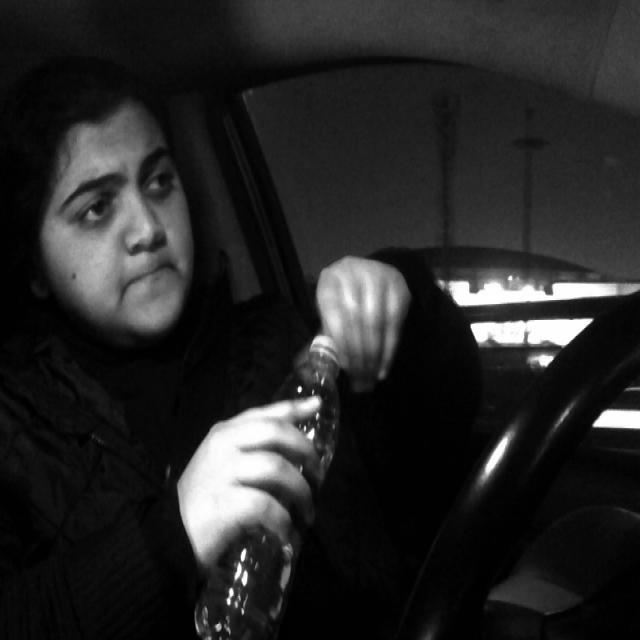Drinking: (192, 334, 346, 640)
